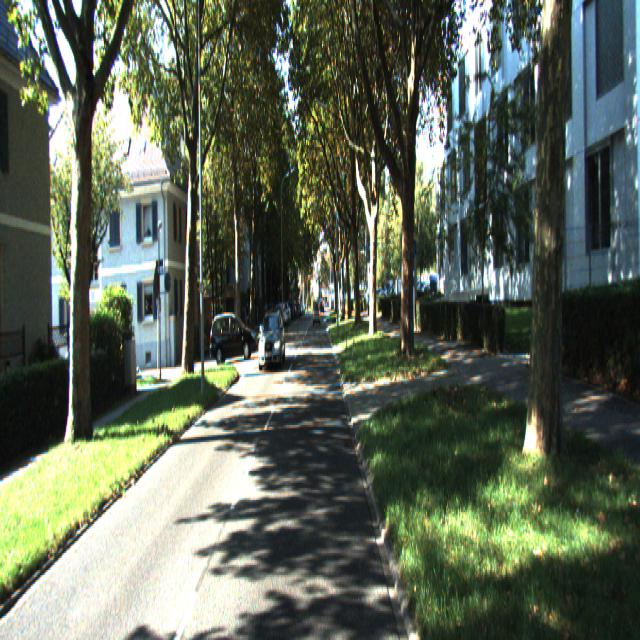Car: (210, 315, 257, 368), (257, 312, 285, 369)
